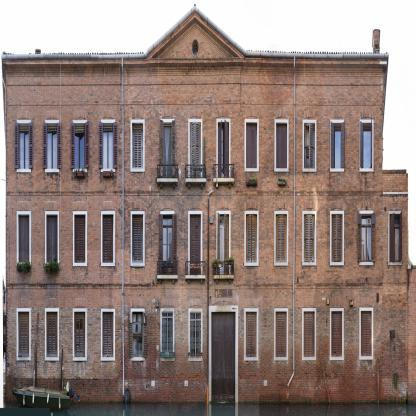Blind: (190, 214, 201, 274), (190, 122, 201, 178), (218, 122, 229, 178), (332, 214, 343, 262), (304, 215, 315, 263), (246, 215, 257, 263), (132, 215, 143, 263), (103, 215, 114, 263), (75, 215, 86, 263), (47, 215, 58, 263), (18, 215, 29, 263), (246, 122, 257, 168), (276, 122, 287, 168), (304, 123, 315, 169), (246, 312, 257, 358), (276, 312, 287, 358), (332, 311, 343, 357), (18, 312, 29, 357), (47, 312, 58, 357), (75, 312, 86, 357), (103, 312, 114, 357), (304, 312, 315, 357), (361, 311, 372, 356), (224, 213, 229, 274), (172, 214, 177, 275), (357, 213, 362, 262), (159, 214, 163, 275), (172, 119, 176, 178), (160, 119, 164, 178), (15, 122, 20, 169), (85, 122, 90, 168), (99, 122, 104, 168), (113, 122, 118, 168), (143, 312, 148, 358), (128, 312, 133, 358), (371, 213, 375, 262), (29, 122, 33, 169), (43, 122, 47, 169), (57, 122, 61, 169), (217, 212, 220, 274), (71, 123, 75, 169), (331, 121, 334, 168), (341, 122, 344, 169), (360, 122, 363, 169), (371, 121, 372, 168)
Building Outline: (1, 4, 416, 403)
Cornice: (146, 13, 244, 62)
Door: (211, 312, 235, 402)
Facade: (5, 61, 383, 404)
Floor: (7, 85, 383, 197), (7, 197, 408, 291)
Floor Slab: (6, 283, 408, 291), (6, 189, 408, 197), (7, 77, 383, 85)
Ground Floor: (7, 284, 408, 404)
Sill: (185, 178, 206, 190), (157, 178, 178, 189), (213, 178, 234, 189), (157, 275, 178, 284), (213, 275, 234, 284), (185, 275, 206, 284)
Top Floor: (146, 13, 244, 85)
Window: (162, 214, 173, 274), (218, 214, 229, 274), (190, 214, 201, 274), (162, 122, 173, 178), (218, 122, 229, 178), (190, 122, 201, 178), (132, 215, 143, 263), (18, 215, 29, 263), (47, 215, 58, 263), (75, 215, 86, 263), (103, 215, 114, 263), (361, 214, 372, 262), (332, 214, 343, 262), (304, 215, 315, 263), (276, 215, 287, 263), (246, 215, 257, 263), (18, 123, 29, 169), (132, 123, 143, 169), (103, 123, 114, 169), (74, 123, 85, 169), (47, 123, 58, 169), (361, 123, 372, 169), (246, 122, 257, 168), (276, 122, 287, 168), (304, 123, 315, 169), (332, 123, 343, 169), (246, 312, 257, 358), (276, 312, 287, 358), (332, 311, 343, 357), (132, 312, 143, 357), (18, 312, 29, 357), (47, 312, 58, 357), (75, 312, 86, 357), (103, 312, 114, 357), (190, 312, 201, 357), (361, 311, 372, 356), (304, 312, 315, 357), (390, 214, 400, 262), (162, 311, 173, 353)
dont: (12, 312, 80, 409)
